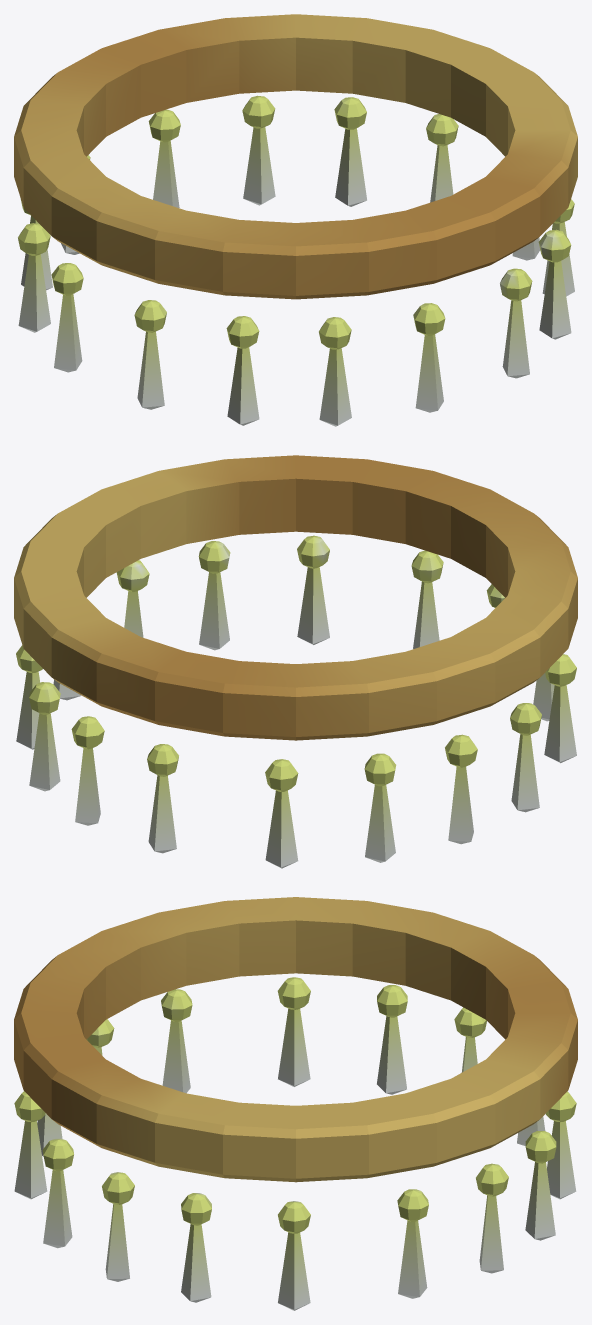
File: Candelabro.fbx
3 renders of one model, top to bottom at view 1: azimuth 30°, elevation 25°; view 2: azimuth 150°, elevation 25°; view 3: azimuth 270°, elevation 25°, orthographic.
Parts seen in each view (by area): view 1: Torus, Torus.001, Torus.002; view 2: Torus, Torus.002, Torus.001; view 3: Torus, Torus.001, Torus.002.
Boxes of the visible parts, x1,y1,x2,y2 form: Torus: (14,14,577,299); Torus.001: (20,97,571,425); Torus.002: (18,95,574,426); Torus: (14,455,577,740); Torus.002: (16,535,576,868); Torus.001: (29,541,554,862); Torus: (14,897,577,1182); Torus.001: (14,977,576,1310); Torus.002: (37,985,556,1302).
Size of the model in its own units: 299 by 108 by 299.
